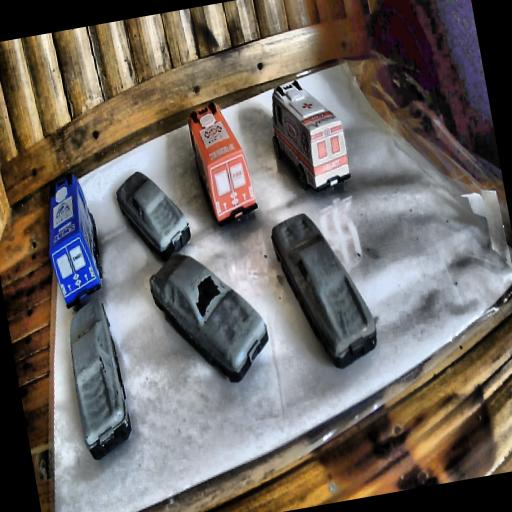ambulance: (263, 72, 353, 198)
fire_truck: (184, 97, 260, 228)
normal_car: (266, 204, 384, 376), (144, 238, 274, 394), (58, 294, 137, 460), (112, 162, 194, 268)
police car: (34, 168, 109, 308)
